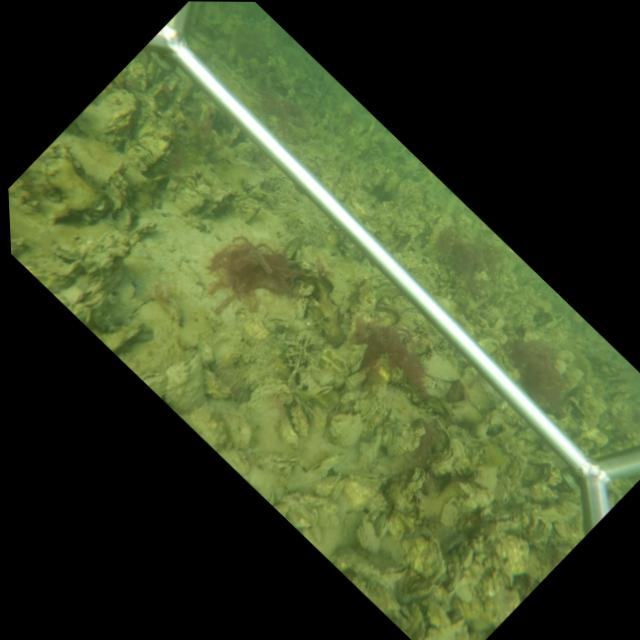Oyster-Closed: (125, 113, 176, 173), (162, 348, 207, 413), (404, 536, 445, 583), (420, 352, 464, 383), (173, 181, 204, 219), (354, 518, 382, 552), (306, 452, 348, 474), (275, 407, 297, 446), (348, 471, 387, 490), (347, 342, 368, 375), (280, 233, 302, 259), (293, 297, 308, 320)
Oyster-Indeterminate: (183, 402, 234, 451), (102, 88, 136, 133), (327, 411, 364, 449)
